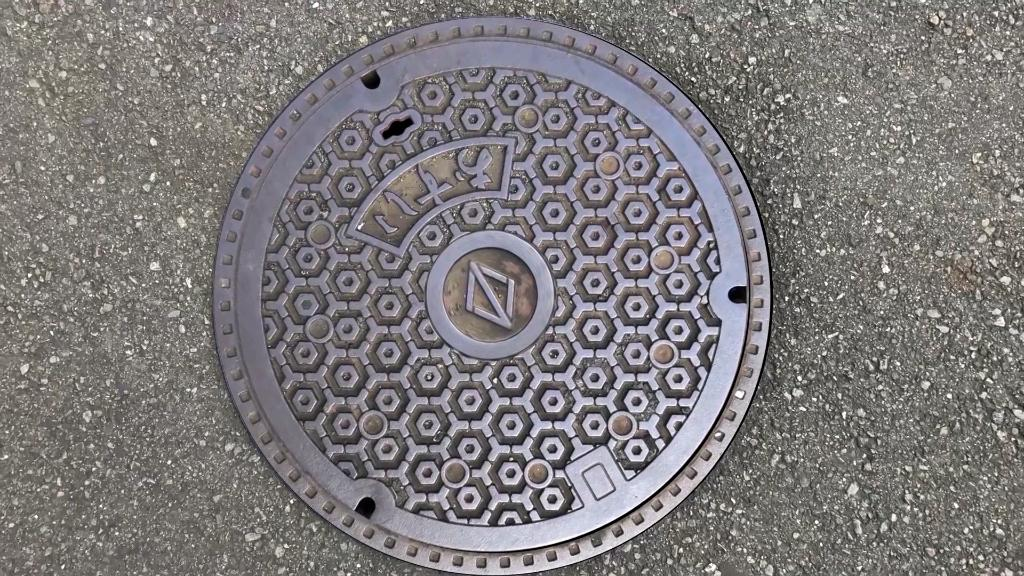wellcover: (195, 17, 777, 576)
